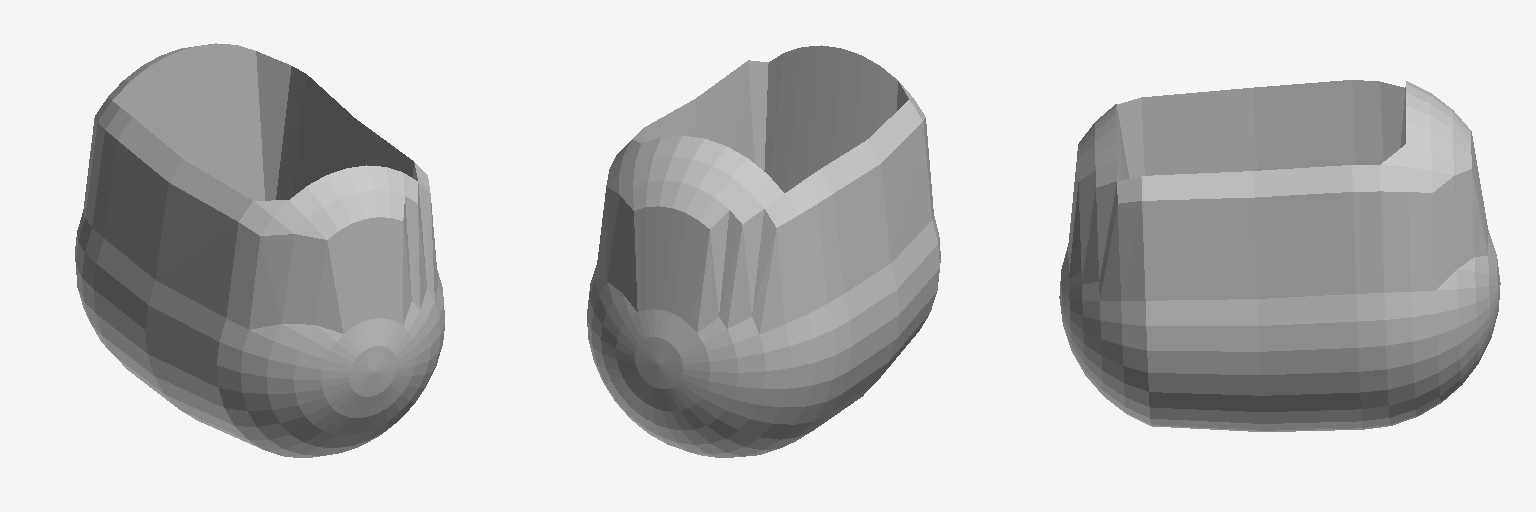
The model's file is Backpack001.obj.
3 views of the same model, side by side, from view 1: azimuth 30°, elevation 25°; view 2: azimuth 150°, elevation 25°; view 3: azimuth 270°, elevation 25° (orthographic).
Parts seen in each view (by area): view 1: Sphere001; view 2: Sphere001; view 3: Sphere001.
Boxes of the visible parts, x1=… form: Sphere001: x1=75, y1=43, x2=444, y2=457; Sphere001: x1=587, y1=45, x2=940, y2=457; Sphere001: x1=1059, y1=80, x2=1500, y2=431.
Size of the model in its own units: 36 by 45.58 by 55.79.